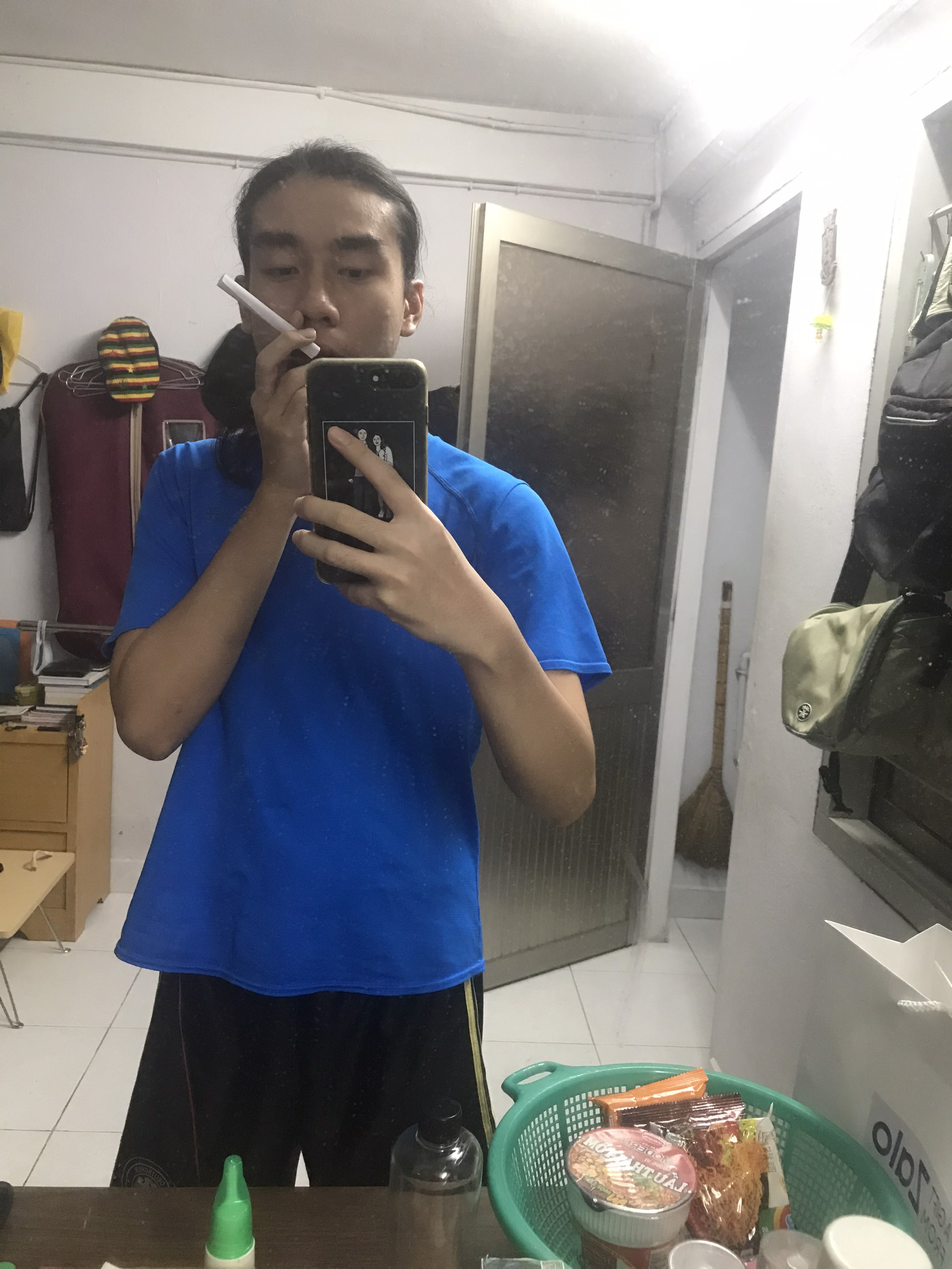cigarette: (209, 268, 291, 336)
person: (83, 81, 610, 1220)
